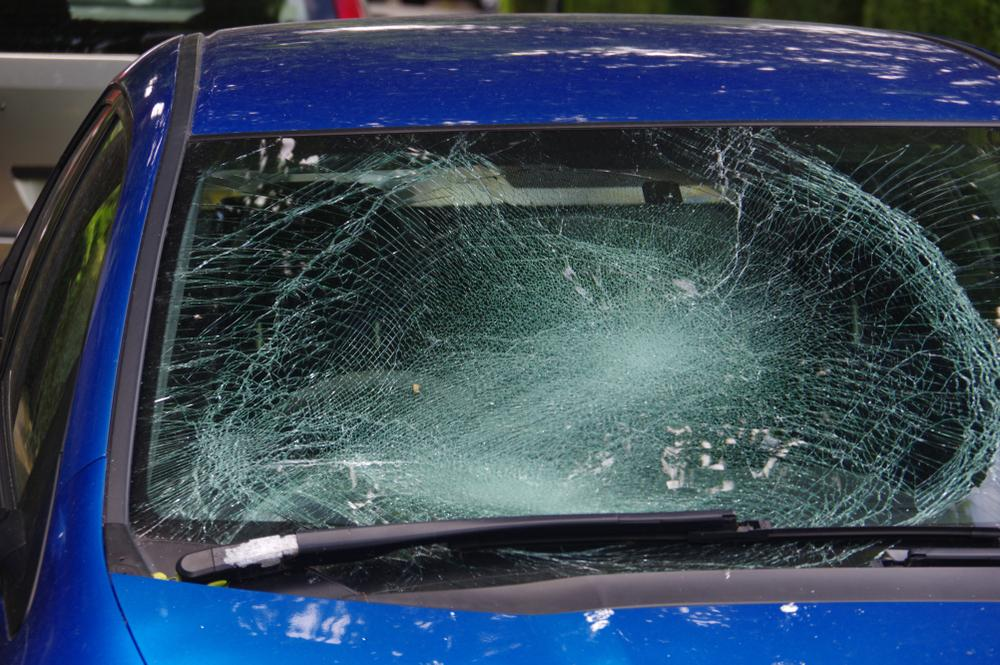glass shatter: (131, 124, 1000, 593)
